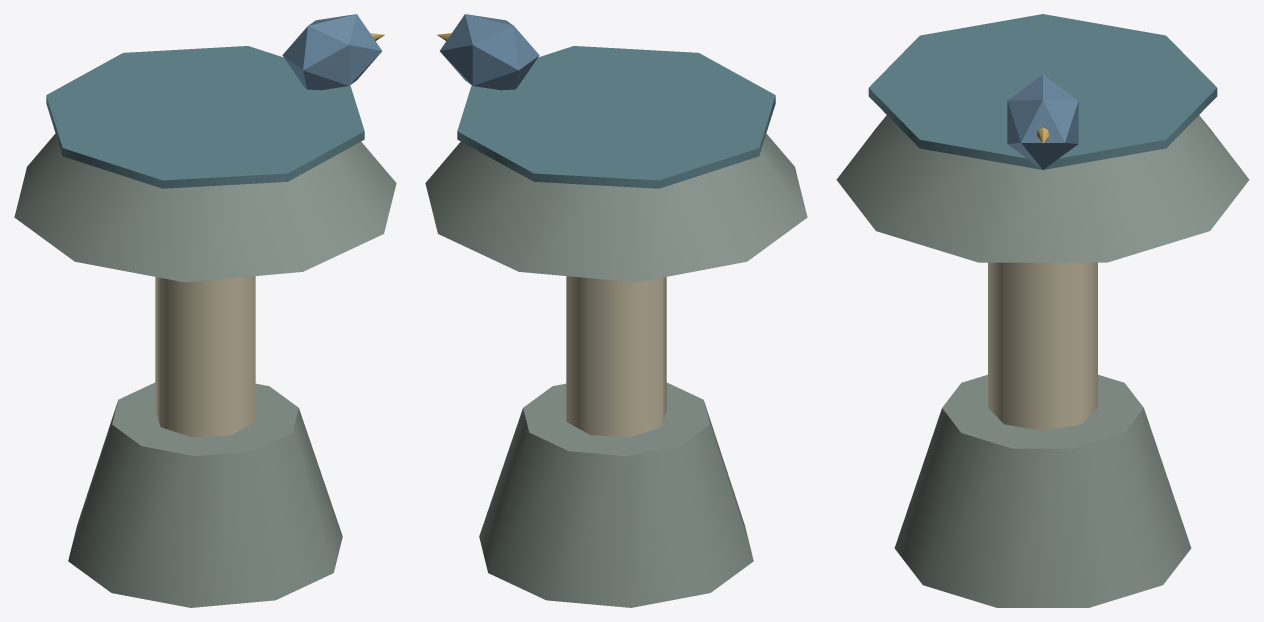
Rendered from decoration-birdbath.glb.
3 views of the same model, side by side, from view 1: azimuth 30°, elevation 25°; view 2: azimuth 150°, elevation 25°; view 3: azimuth 270°, elevation 25° (orthographic). The views are drawn at different scales.
Visible parts, largest first — view 1: decoration-birdbath-visual; view 2: decoration-birdbath-visual; view 3: decoration-birdbath-visual.
Part boxes in pixels (<box>): decoration-birdbath-visual: <box>14,14,396,607</box>; decoration-birdbath-visual: <box>425,14,807,607</box>; decoration-birdbath-visual: <box>836,14,1249,607</box>.
Size of the model in its own units: 0.6443 by 0.9 by 0.64.
